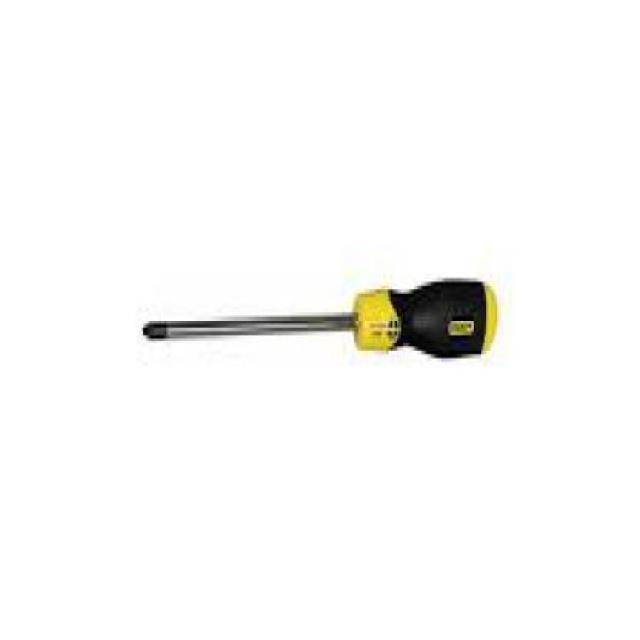screwdriver: (143, 274, 497, 366)
